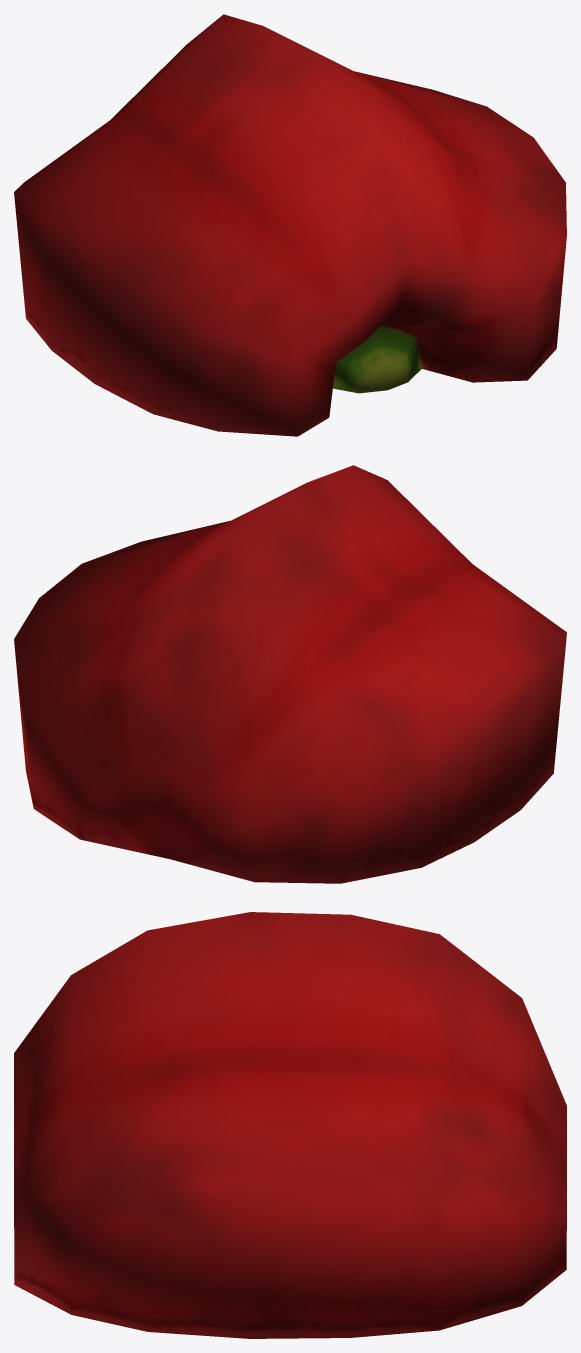
File: PaprikaB.glb
3 views of the same model, one above another, from view 1: azimuth 30°, elevation 25°; view 2: azimuth 150°, elevation 25°; view 3: azimuth 270°, elevation 25° (orthographic). The views are drawn at different scales.
Visible parts, largest first — view 1: PaprikaB_Paprika_0; view 2: PaprikaB_Paprika_0; view 3: PaprikaB_Paprika_0.
Boxes of the visible parts, box(x1,y1,x2,y2) form: PaprikaB_Paprika_0: box(14, 14, 566, 436); PaprikaB_Paprika_0: box(14, 465, 566, 883); PaprikaB_Paprika_0: box(14, 912, 566, 1338).
Size of the model in its own units: 0.95 by 0.5584 by 0.8956.
Materials: 1 (1 with a texture image).
